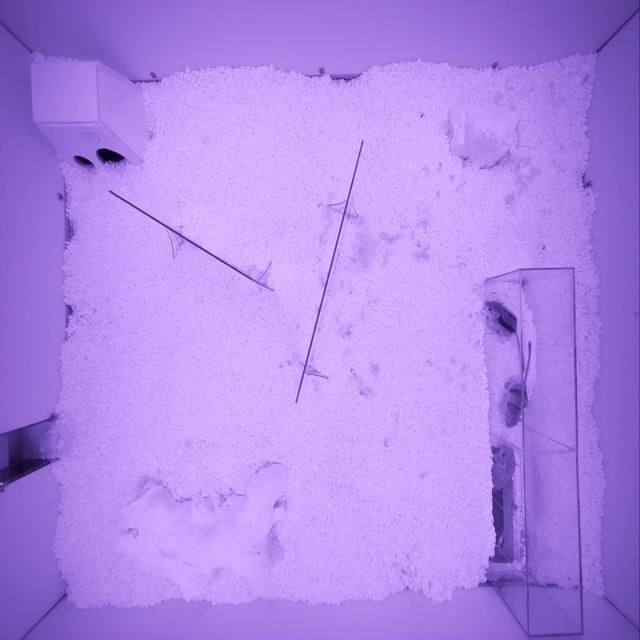pup_fluffy: (491, 444, 521, 488)
pup_h_stripe: (502, 379, 528, 429)
pup_v_stripe: (485, 299, 517, 337)
